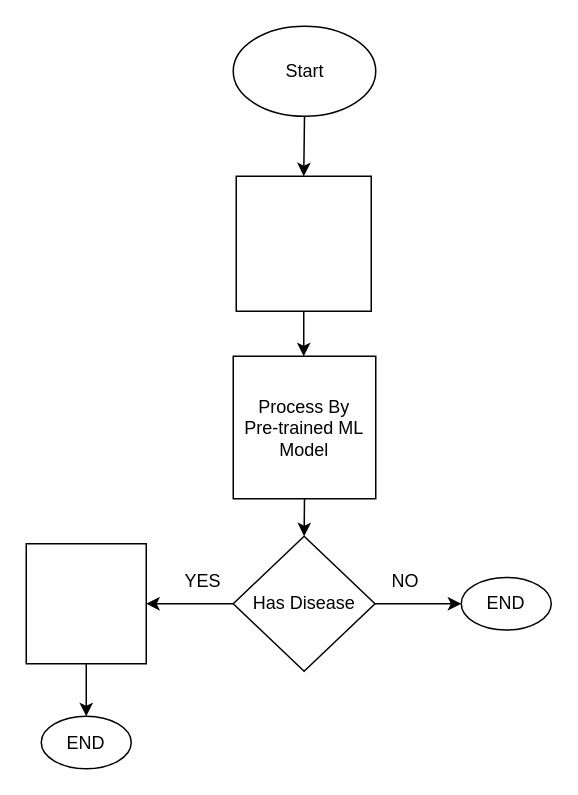
The diagram is 578 pixels wide and 795 high, and some of its shapes have lost their labels. The box of each missing label's shape, as (x1, y1, x2, y2) in pixels:
Get Patients Medical Data: (235, 175, 371, 311)
Suggestions: (25, 542, 146, 664)
